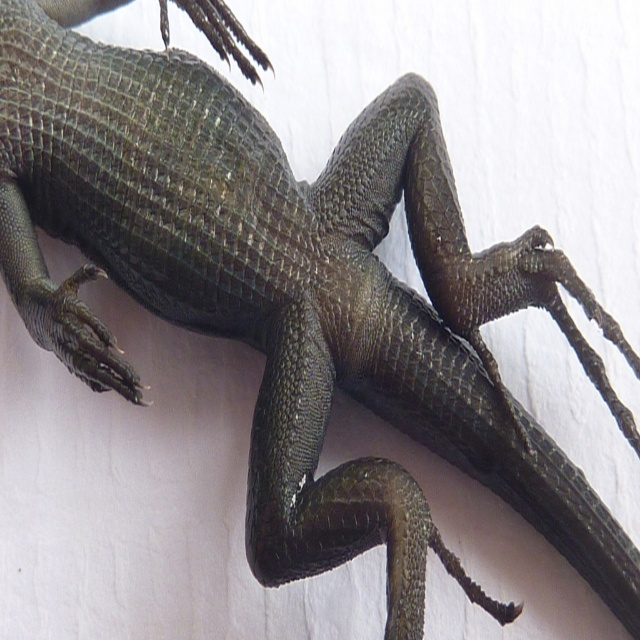Lizard: (0, 14, 606, 602)
